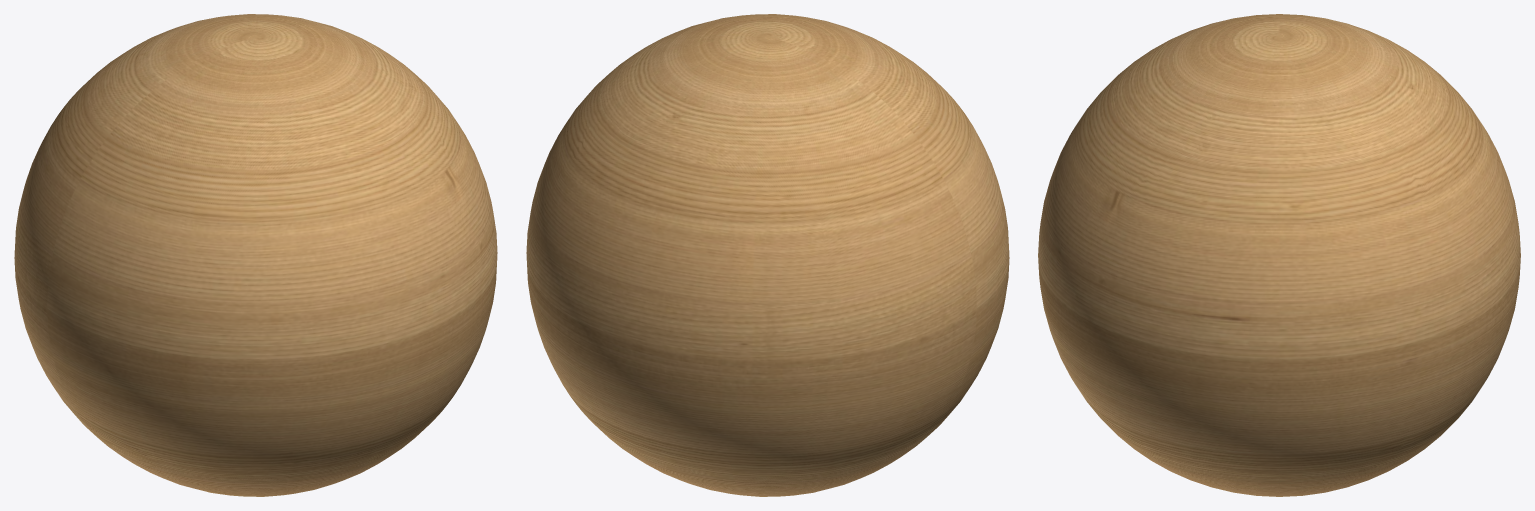
3 renders of one model, left to right at view 1: azimuth 30°, elevation 25°; view 2: azimuth 150°, elevation 25°; view 3: azimuth 270°, elevation 25°, orthographic.
Parts seen in each view (by area): view 1: wooden_sphere; view 2: wooden_sphere; view 3: wooden_sphere.
Boxes of the visible parts, x1=… form: wooden_sphere: x1=14, y1=14, x2=497, y2=496; wooden_sphere: x1=526, y1=14, x2=1009, y2=496; wooden_sphere: x1=1038, y1=14, x2=1520, y2=496.
Bounding box in the file's own units: 6.97 × 6.97 × 6.97.
Materials: 1 (1 with a texture image).
